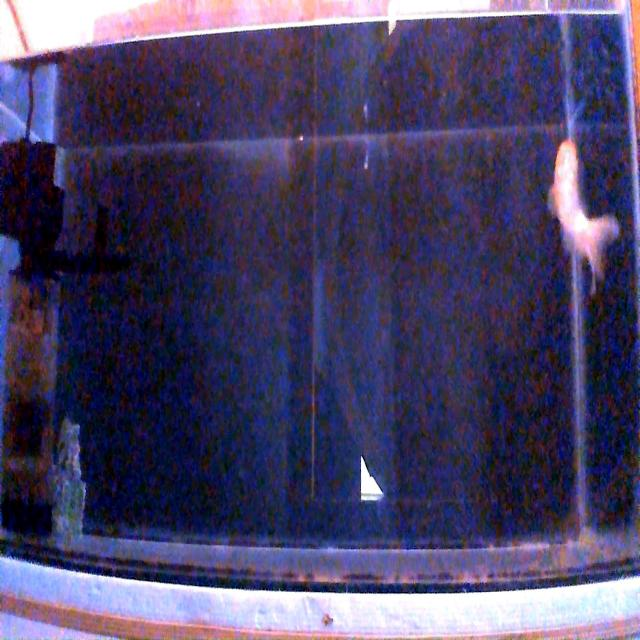fish: (546, 139, 621, 297)
